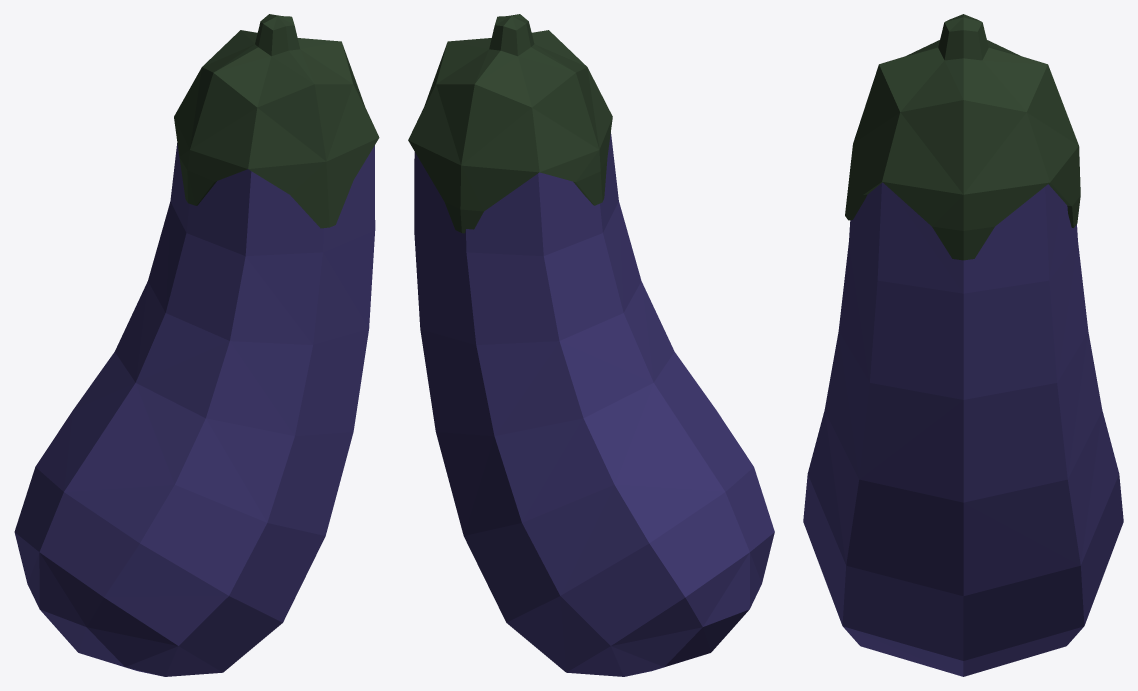
Rendered from eggplant.glb.
3 renders of one model, left to right at view 1: azimuth 30°, elevation 25°; view 2: azimuth 150°, elevation 25°; view 3: azimuth 270°, elevation 25°, orthographic. The views are drawn at different scales.
Parts seen in each view (by area): view 1: Eggplant; view 2: Eggplant; view 3: Eggplant.
Boxes of the visible parts, x1,y1,x2,y2 form: Eggplant: [14, 14, 379, 676]; Eggplant: [408, 14, 774, 676]; Eggplant: [803, 14, 1123, 676].
Size of the model in its own units: 0.9623 by 1.75 by 0.718.
